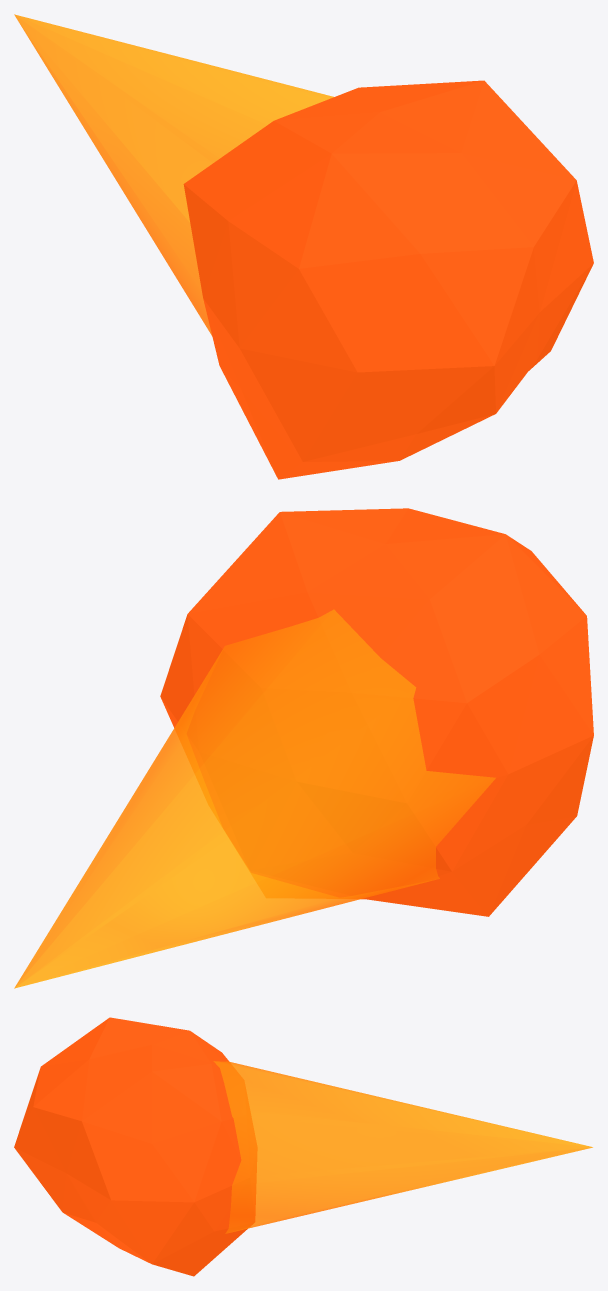
The model's file is fx_boulder_x.glb.
3 views of the same model, one above another, from view 1: azimuth 30°, elevation 25°; view 2: azimuth 150°, elevation 25°; view 3: azimuth 270°, elevation 25° (orthographic). The views are drawn at different scales.
Visible parts, largest first — view 1: fx_boulder_x; view 2: fx_boulder_x; view 3: fx_boulder_x.
Boxes of the visible parts, x1,y1,x2,y2 form: fx_boulder_x: (14,14,593,479); fx_boulder_x: (14,508,593,988); fx_boulder_x: (14,1017,592,1276).
Size of the model in its own units: 0.9082 by 0.8439 by 2.1.
